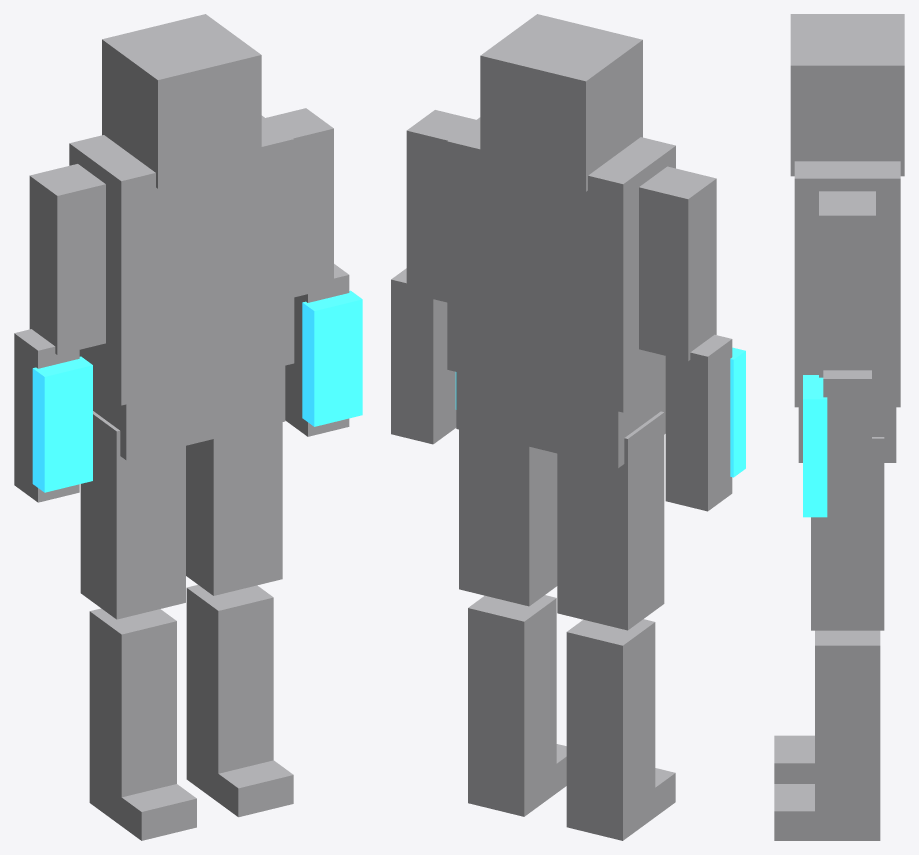
The model's file is forearms.glb.
3 views of the same model, side by side, from view 1: azimuth 30°, elevation 25°; view 2: azimuth 150°, elevation 25°; view 3: azimuth 270°, elevation 25° (orthographic).
Parts seen in each view (by area): view 1: Mannequin; view 2: Mannequin; view 3: Mannequin.
Boxes of the visible parts, left/top/right/bottom form: Mannequin: left=14, top=14, right=362, bottom=840; Mannequin: left=391, top=14, right=745, bottom=840; Mannequin: left=774, top=14, right=904, bottom=840.
Size of the model in its own units: 0.92 by 2.07 by 0.32.
